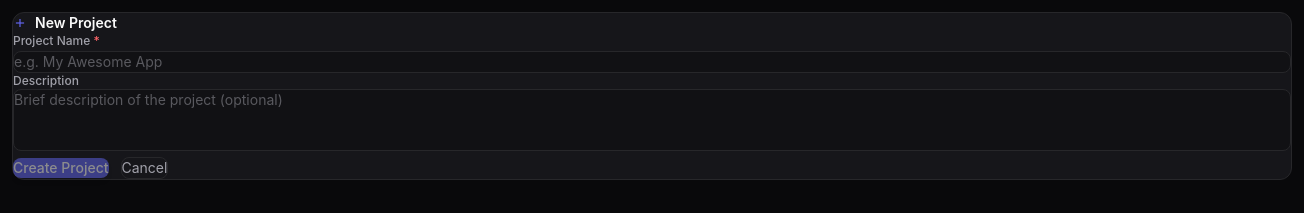
Test case: ProjectCreateForm (FM-012) › surfaces the error message when createProject rejects
In the field labelled "Project Name *": (652, 62) [13,51,1291,73], type "Atlas"
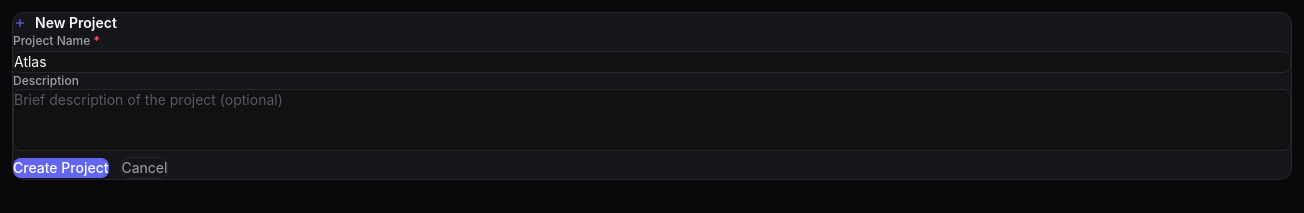
Click the button "Create Project": (61, 168) [13,158,108,178]
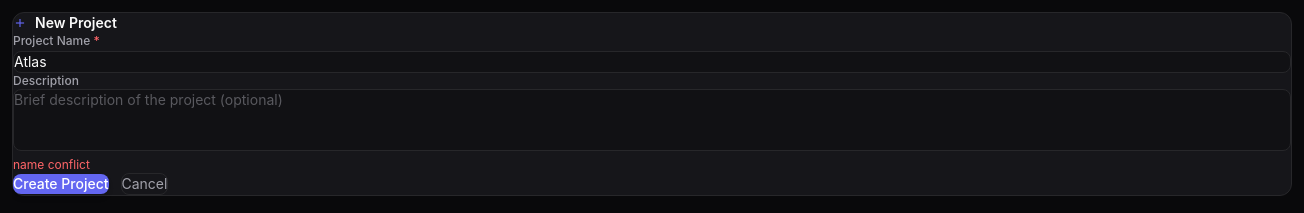
expect the button "Create Project" is enabled: met, box [13,174,108,194]
expect the text "name conflict" is shown: met, box [13,157,90,172]
